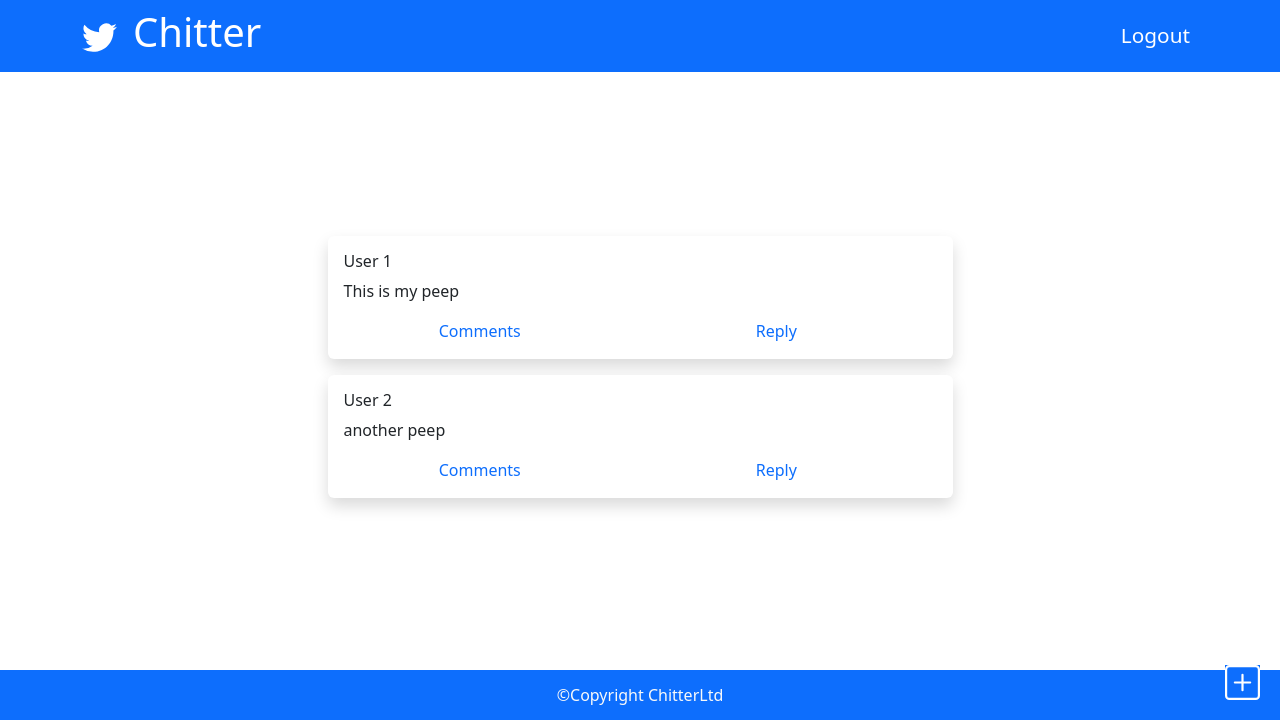
Test: Testing Home page › Testing peeps feed › Clicking addPeepBtn should set createPeepModal to true
Click the 2nd icon at (1242, 682), box top-left (1225, 665), bottom-right (1260, 700)
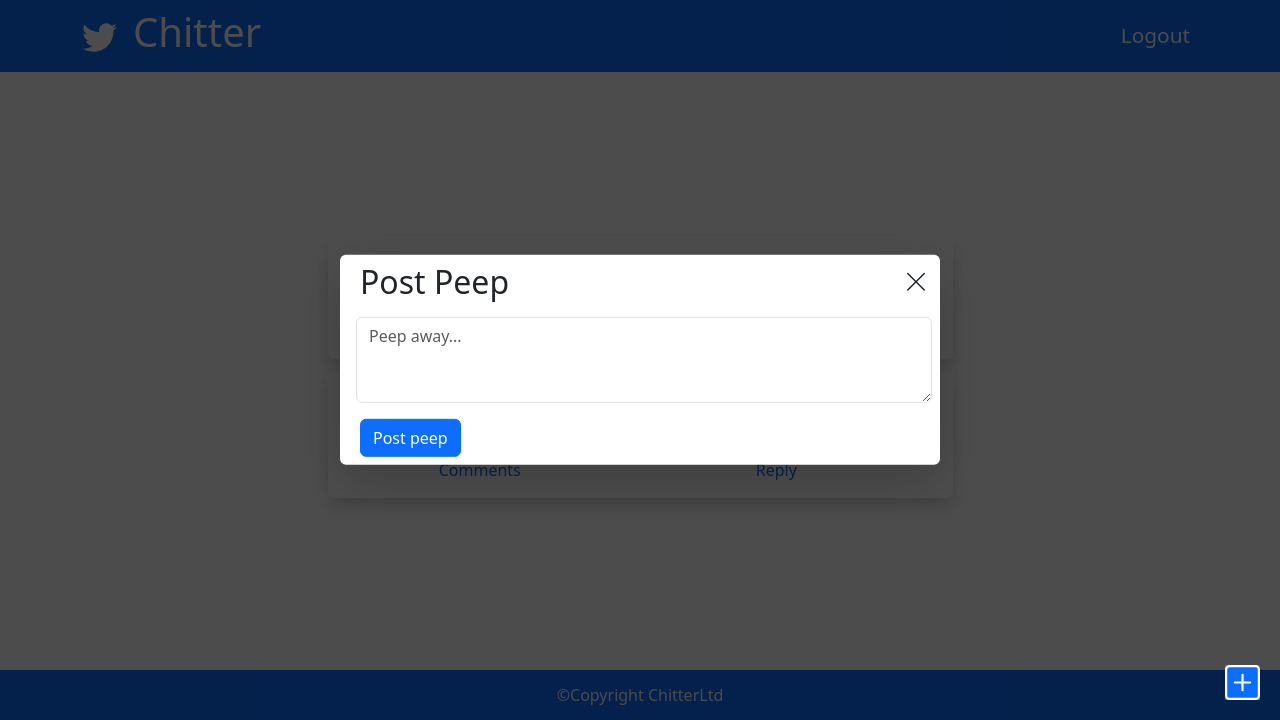
Check: the element showing "Post Peep Post peep" is shown, box top-left (340, 255), bottom-right (940, 465)
